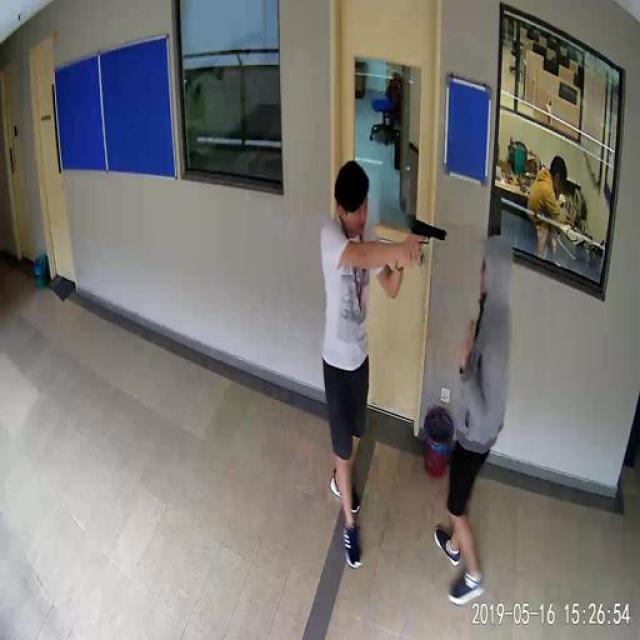Gun: (408, 215, 444, 261)
